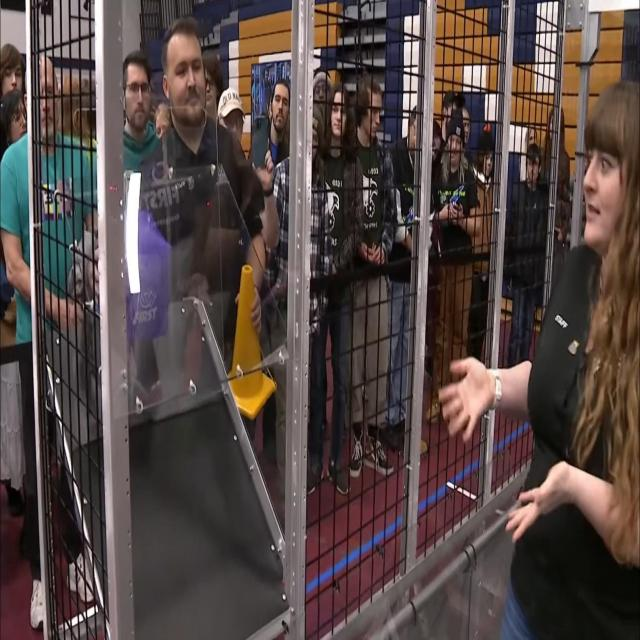frc_cone: (214, 264, 274, 418)
frc_cube: (102, 213, 174, 364)
